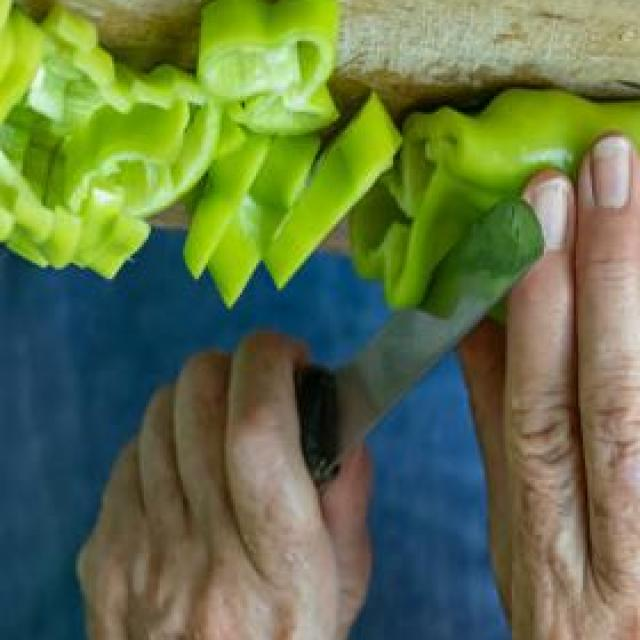knife: (231, 187, 545, 524)
